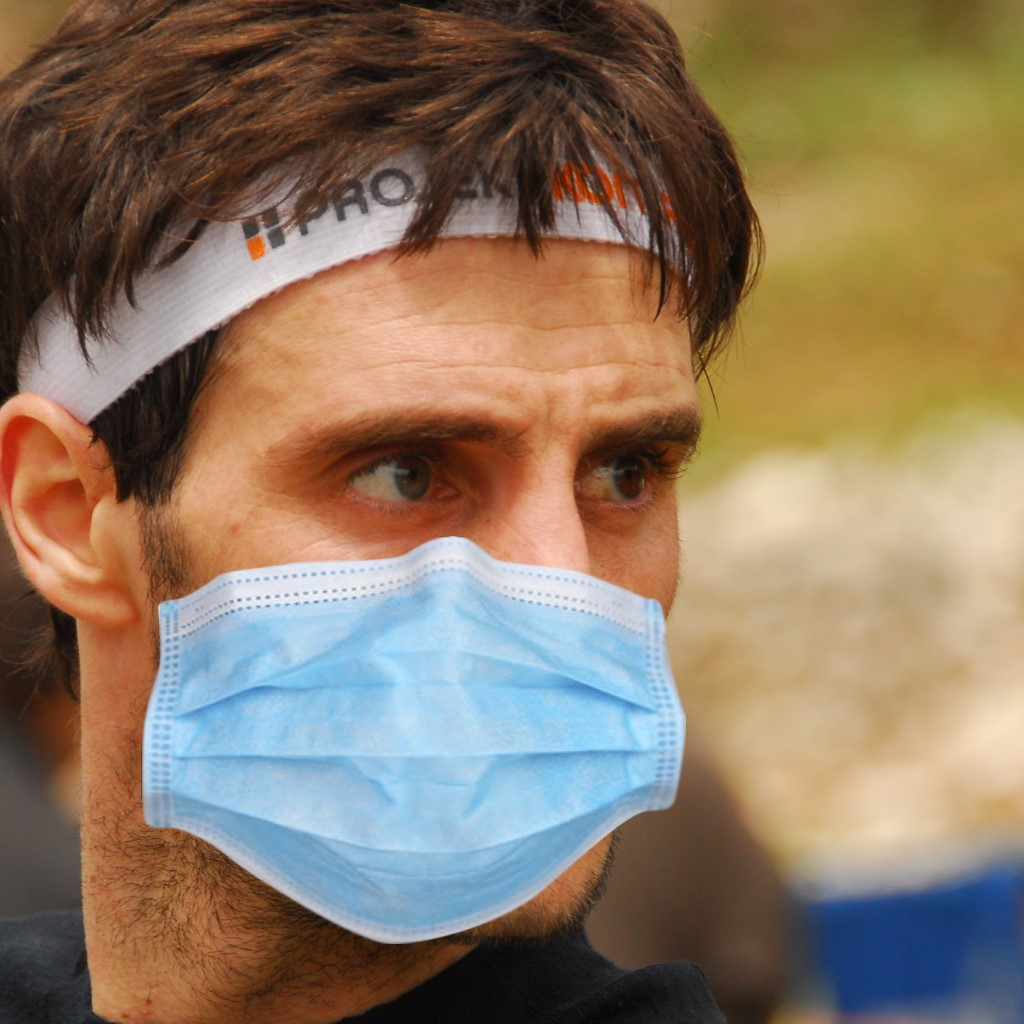con_mascara: (52, 104, 691, 957)
